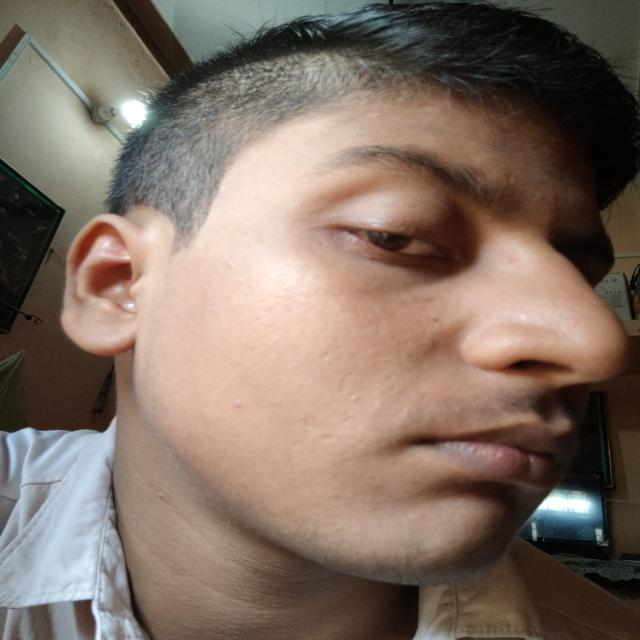Acne: (412, 328, 454, 368), (497, 167, 525, 204)
